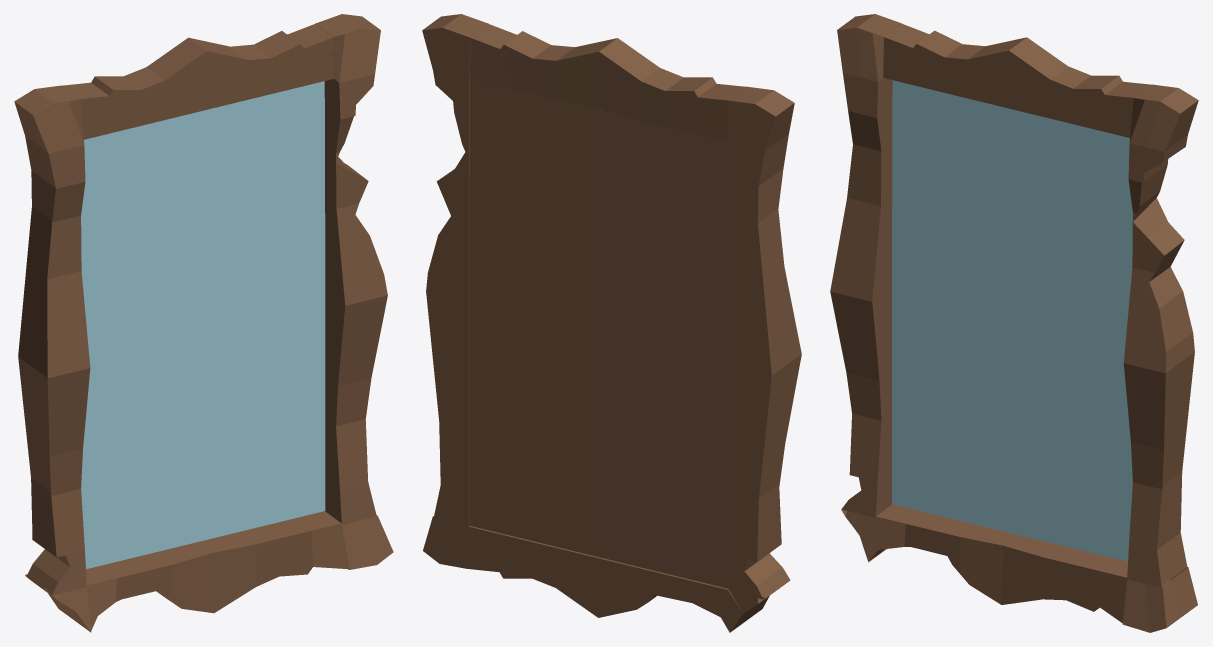
The model's file is Frame.fbx.
3 renders of one model, left to right at view 1: azimuth 30°, elevation 25°; view 2: azimuth 150°, elevation 25°; view 3: azimuth 330°, elevation 25°, orthographic. The views are drawn at different scales.
Visible parts, largest first — view 1: Frame; view 2: Frame; view 3: Frame.
Boxes of the visible parts, x1=… form: Frame: x1=14, y1=14, x2=393, y2=632; Frame: x1=422, y1=14, x2=801, y2=632; Frame: x1=830, y1=14, x2=1198, y2=632.
Bounding box in the file's own units: 17.86 × 168 × 110.
